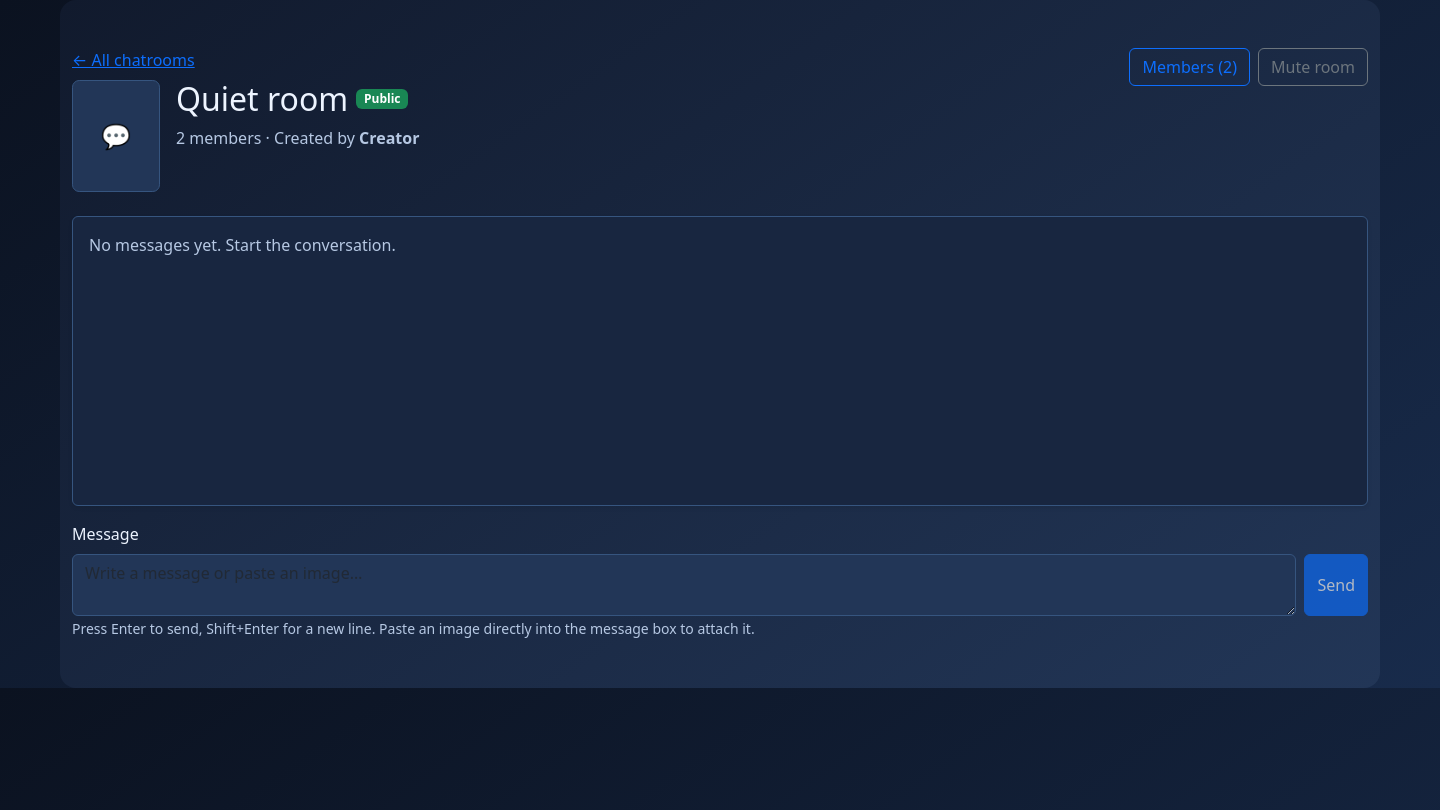
it: ChatRoomPage › lets any room member mute and unmute their future room notifications
Click the button "Mute room".
click(1313, 67)  # box [1258,48,1368,86]
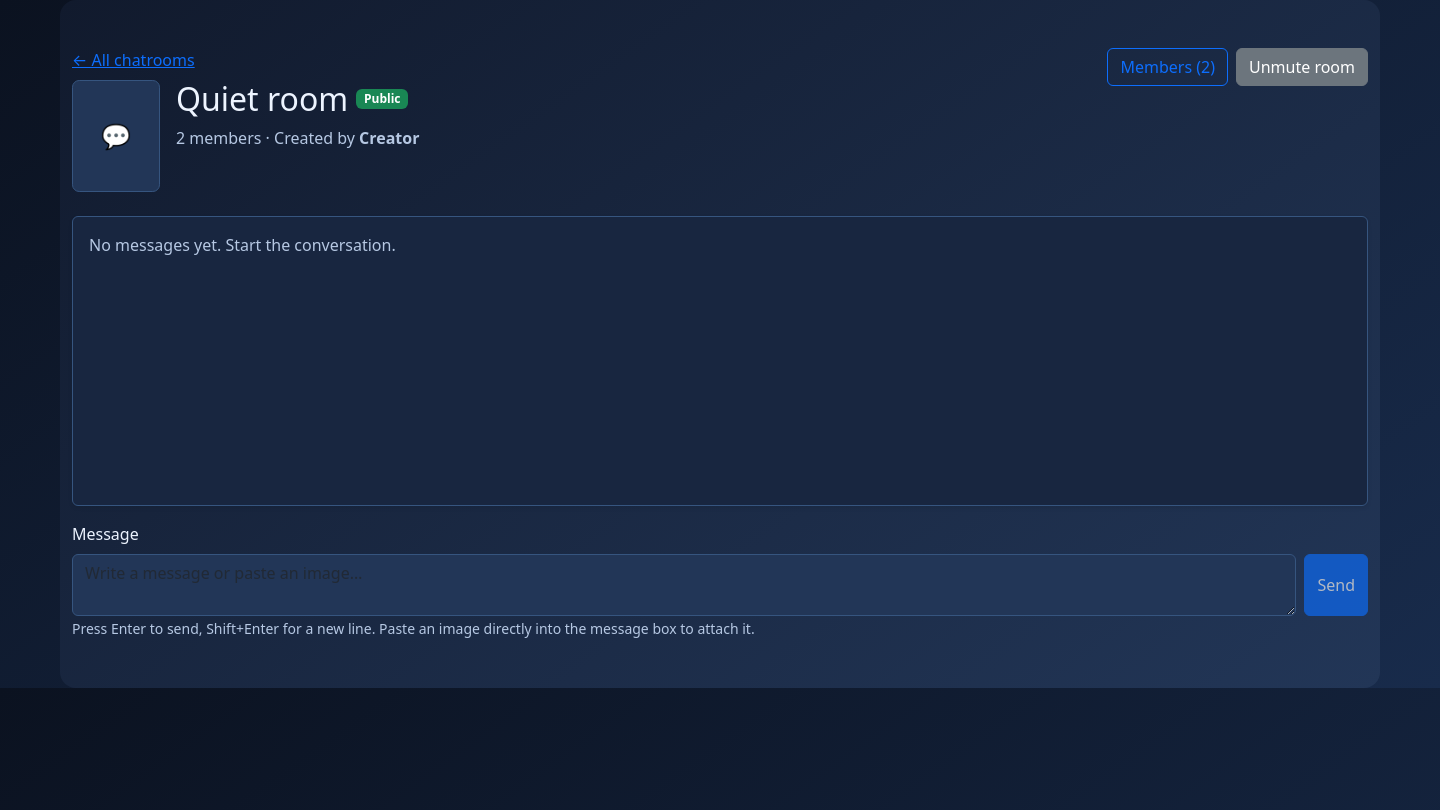
Expected: the button "Unmute room" is shown, [1236,48,1368,86]
